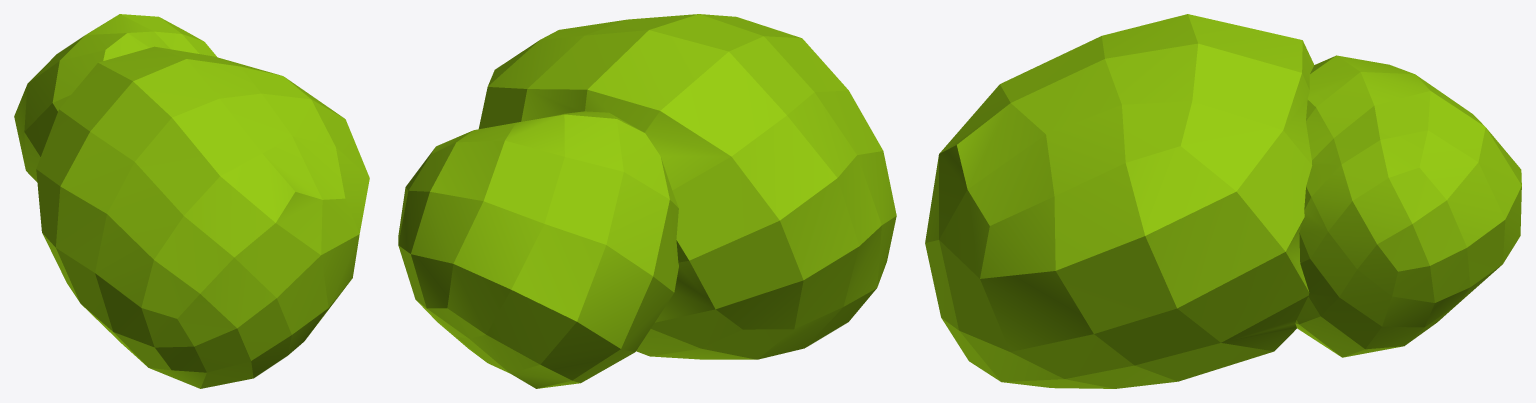
Rendered from tree_big_6_round.fbx.
3 views of the same model, side by side, from view 1: azimuth 30°, elevation 25°; view 2: azimuth 150°, elevation 25°; view 3: azimuth 270°, elevation 25° (orthographic). The views are drawn at different scales.
Parts seen in each view (by area): view 1: tree_big_6_round; view 2: tree_big_6_round; view 3: tree_big_6_round.
Boxes of the visible parts, box(x1,y1,x2,y2) form: tree_big_6_round: box(14, 14, 369, 388); tree_big_6_round: box(398, 14, 896, 388); tree_big_6_round: box(925, 14, 1521, 388).
Bounding box in the file's own units: 163 × 147 × 225.
